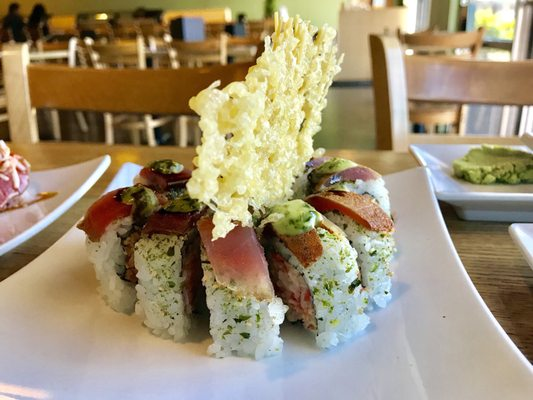soup: (81, 26, 399, 361)
